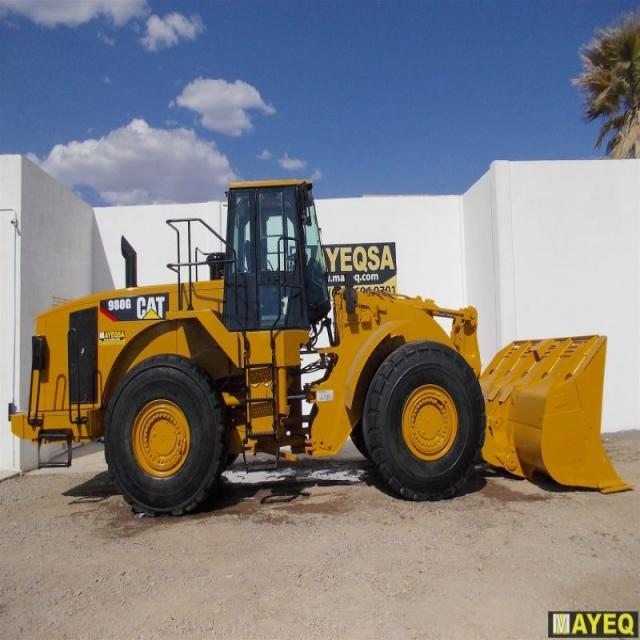buldozerpayloadergrader: (7, 171, 638, 514)
